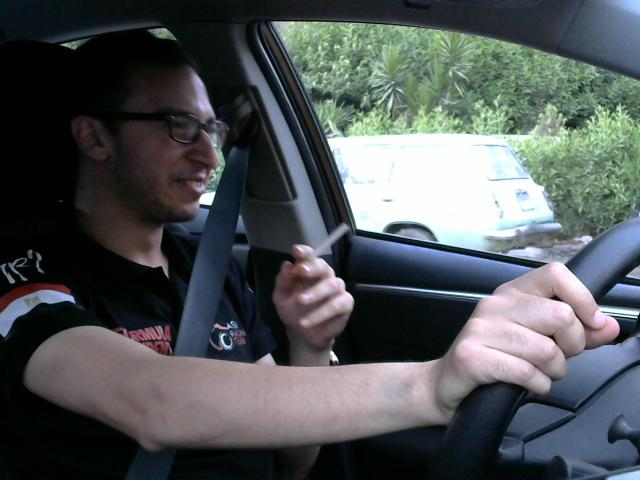Smoking: (279, 214, 353, 281)
